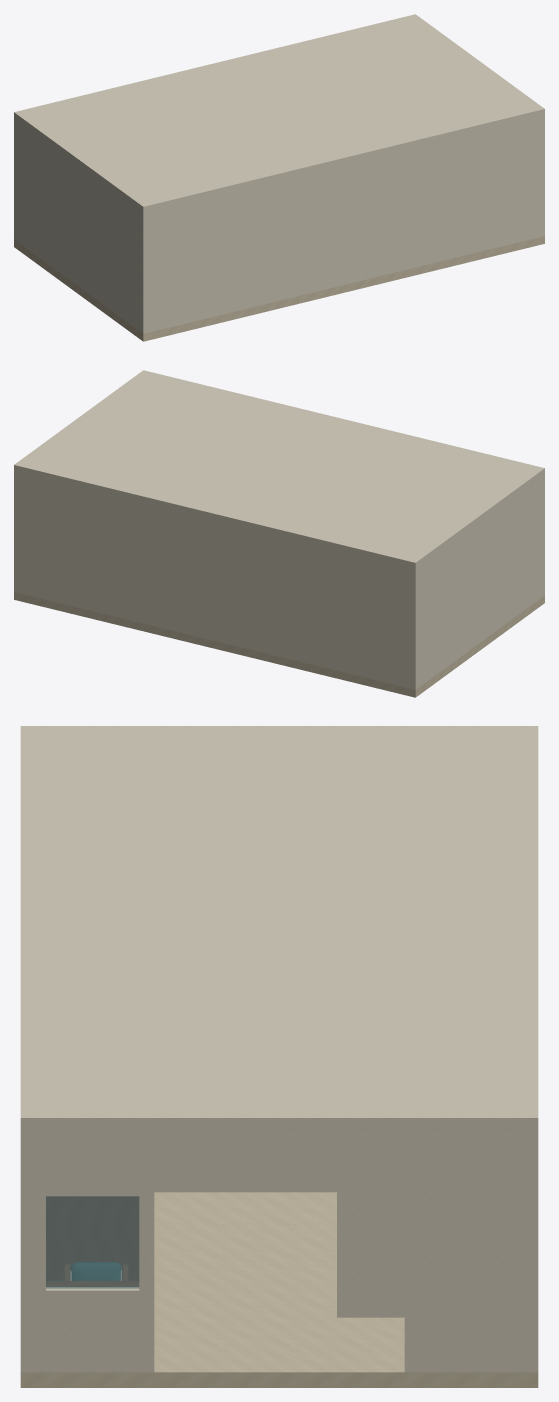
Rendered from StarAtlasSpecialty_383.glb.
The picture shows the model from 3 angles, top to bottom: view 1: azimuth 30°, elevation 25°; view 2: azimuth 150°, elevation 25°; view 3: azimuth 270°, elevation 25°; orthographic projection. The views are drawn at different scales.
Visible parts, largest first — view 1: SA383_Ceiling, SA383_NorthSide, SA383_OpaqueRearBoundary, SA383_RoomFloor; view 2: SA383_Ceiling, SA383_SouthSide, SA383_OpaqueRearBoundary, SA383_RoomFloor; view 3: SA383_Ceiling, SA383_RoomFloor, SA383_EntryShoulderSouth, SA383_EntryHeader, SA383_StreetWindowLower, SA383_ScreenedStreetGlass, SA383_WashEntrySide, SA383_StreetWindowUpper, SA383_EntryPrivacyDogleg, SA383_NorthSide, SA383_SouthSide, SA383_StreetWindowOuterPier (+2 smaller).
Part boxes in pixels (bbox=[...]): SA383_Ceiling: bbox=[14, 14, 544, 211]; SA383_NorthSide: bbox=[141, 114, 544, 333]; SA383_OpaqueRearBoundary: bbox=[16, 119, 141, 331]; SA383_RoomFloor: bbox=[14, 236, 544, 341]; SA383_Ceiling: bbox=[14, 370, 544, 567]; SA383_SouthSide: bbox=[14, 470, 417, 689]; SA383_OpaqueRearBoundary: bbox=[417, 475, 542, 687]; SA383_RoomFloor: bbox=[14, 592, 544, 697]; SA383_Ceiling: bbox=[20, 726, 538, 1128]; SA383_RoomFloor: bbox=[20, 1192, 538, 1387]; SA383_EntryShoulderSouth: bbox=[404, 1128, 529, 1372]; SA383_EntryHeader: bbox=[150, 1128, 408, 1192]; SA383_StreetWindowLower: bbox=[29, 1287, 154, 1372]; SA383_ScreenedStreetGlass: bbox=[46, 1196, 139, 1288]; SA383_WashEntrySide: bbox=[337, 1192, 404, 1317]; SA383_StreetWindowUpper: bbox=[29, 1128, 154, 1196]; SA383_EntryPrivacyDogleg: bbox=[46, 1196, 138, 1280]; SA383_NorthSide: bbox=[20, 1128, 29, 1372]; SA383_SouthSide: bbox=[529, 1128, 538, 1372]; SA383_StreetWindowOuterPier: bbox=[29, 1196, 45, 1290].
Size of the model in its own units: 12.9 by 4.14 by 7.2.
Materials: 64 (49 with a texture image).
